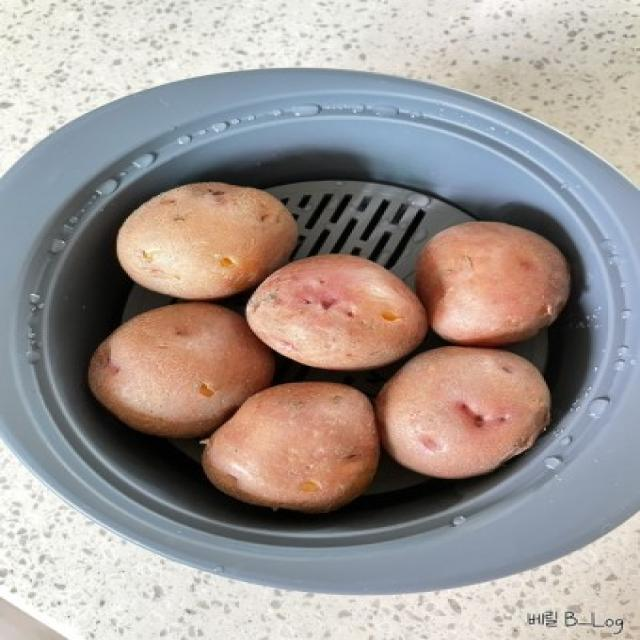potato: (84, 298, 272, 441), (202, 372, 390, 514), (370, 340, 554, 478), (114, 176, 296, 299), (412, 220, 585, 348), (248, 248, 424, 370)
